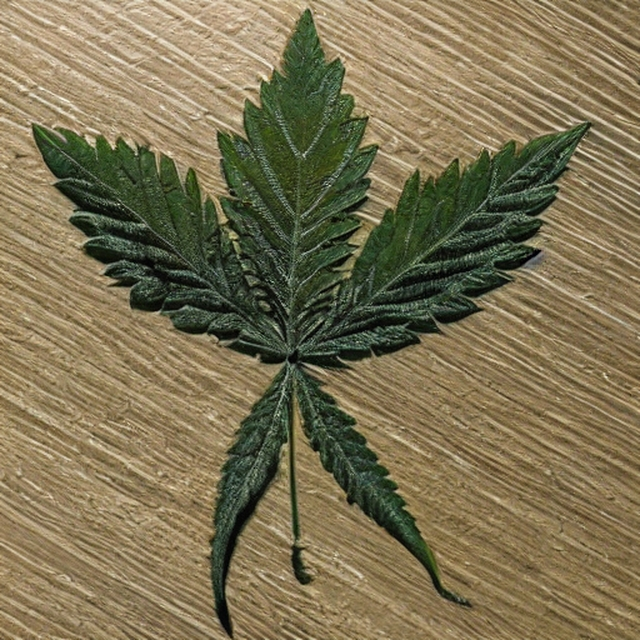Marijuana Leaf: (29, 5, 592, 638)
